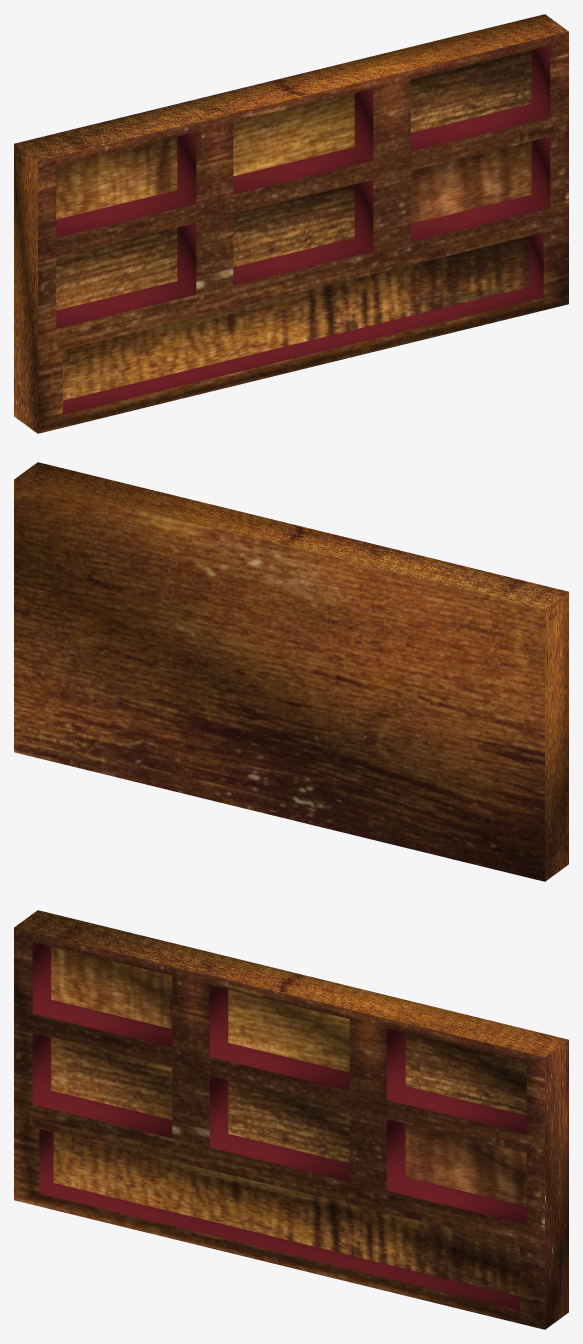
File: Shelf.fbx
The picture shows the model from 3 angles, top to bottom: view 1: azimuth 30°, elevation 25°; view 2: azimuth 150°, elevation 25°; view 3: azimuth 330°, elevation 25°; orthographic projection.
Parts seen in each view (by area): view 1: sideboard; view 2: sideboard; view 3: sideboard.
Boxes of the visible parts, bbox=[...] form: sideboard: bbox=[14, 14, 568, 433]; sideboard: bbox=[14, 462, 568, 881]; sideboard: bbox=[14, 910, 568, 1329].
Size of the model in its own units: 313 by 153 by 24.34.
